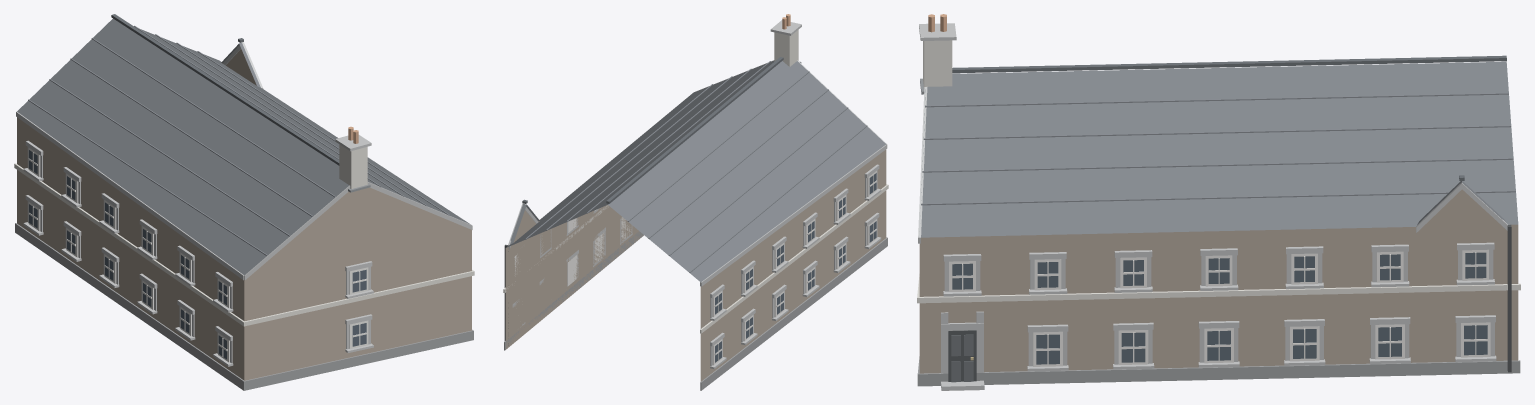
3 renders of one model, left to right at view 1: azimuth 30°, elevation 25°; view 2: azimuth 150°, elevation 25°; view 3: azimuth 270°, elevation 25°, orthographic. The views are drawn at different scales.
Visible parts, largest first — view 1: harl_brown, slate, stone_band, plinth, slate_lt, frame, string, slate_dk, chim_render; view 2: slate, harl_brown, stone_band, slate_lt, plinth, frame, slate_dk, string, chim_render; view 3: slate, harl_brown, stone_band, plinth, frame, slate_lt, string, slate_dk, chim_render, door_dark_p, door_dark, pipe (+9 smaller).
Part boxes in pixels (x1,y1,x2,y2): harl_brown: (17, 49, 471, 380); slate: (17, 18, 469, 275); stone_band: (16, 42, 472, 366); plinth: (15, 223, 473, 390); slate_lt: (28, 25, 449, 255); frame: (28, 148, 368, 362); string: (14, 163, 474, 326); slate_dk: (111, 14, 339, 165); chim_render: (339, 144, 367, 189); slate: (506, 60, 885, 282); harl_brown: (505, 149, 886, 381); stone_band: (508, 20, 887, 368); slate_lt: (525, 61, 867, 272); plinth: (504, 231, 887, 390); frame: (514, 171, 876, 365); slate_dk: (522, 57, 783, 203); string: (503, 184, 888, 333); chim_render: (774, 30, 798, 66); slate: (921, 61, 1518, 237); harl_brown: (919, 189, 1518, 373); stone_band: (918, 23, 1507, 390); plinth: (917, 356, 1520, 386); frame: (949, 249, 1490, 366); slate_lt: (921, 93, 1515, 205); string: (917, 274, 1520, 303); slate_dk: (952, 55, 1506, 180); chim_render: (923, 40, 952, 88); door_dark_p: (951, 334, 973, 382); door_dark: (948, 330, 976, 381); pipe: (1507, 224, 1511, 372).
Bounding box in the file's own units: 12.26 × 11.14 × 20.34.
